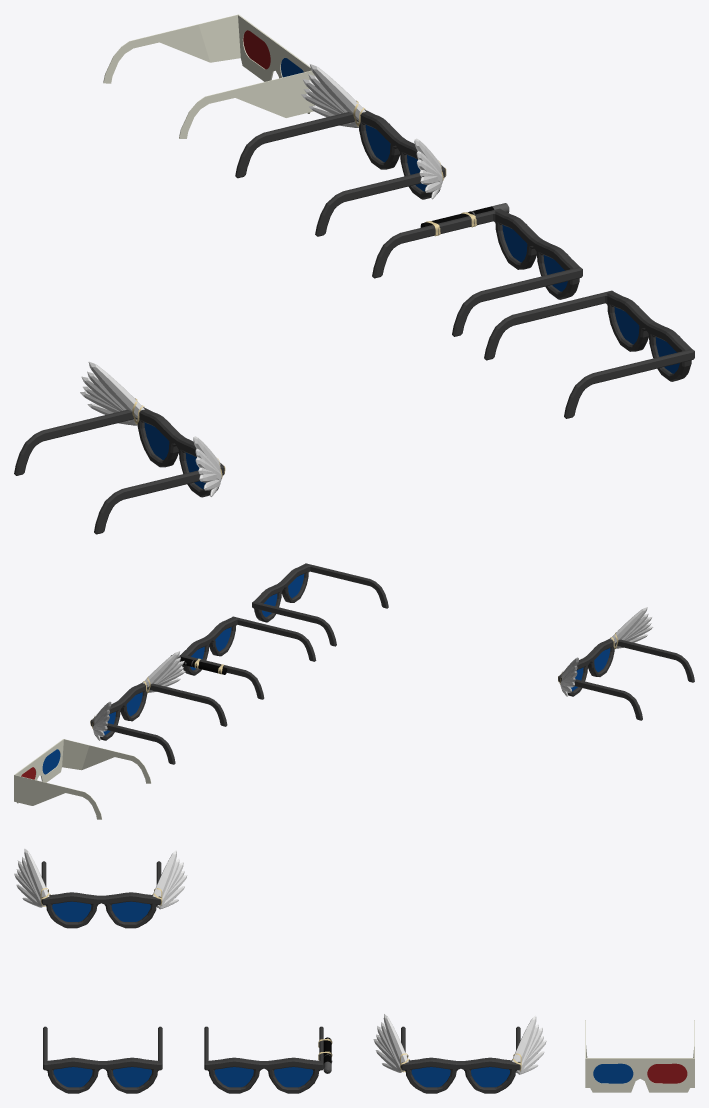
Rendered from bril3D.fbx.
3 renders of one model, top to bottom at view 1: azimuth 30°, elevation 25°; view 2: azimuth 150°, elevation 25°; view 3: azimuth 270°, elevation 25°, orthographic. The views are drawn at different scales.
Parts seen in each view (by area): view 1: 3DBril, brilWings.001, brilWings, brilLazer, bril; view 2: 3DBril, brilWings, brilWings.001, brilLazer, bril; view 3: brilWings.001, brilWings, brilLazer, 3DBril, bril.
Boxes of the visible parts, <box> form: 3DBril: <box>103,14,314,138</box>; brilWings.001: <box>14,361,225,534</box>; brilWings: <box>235,64,446,236</box>; brilLazer: <box>372,203,582,336</box>; bril: <box>484,290,694,418</box>; 3DBril: <box>14,739,151,819</box>; brilWings: <box>90,651,227,764</box>; brilWings.001: <box>558,607,694,720</box>; brilLazer: <box>171,616,316,699</box>; bril: <box>252,563,388,646</box>; brilWings.001: <box>14,848,187,928</box>; brilWings: <box>373,1014,546,1093</box>; brilLazer: <box>204,1026,332,1093</box>; 3DBril: <box>585,1020,694,1092</box>; bril: <box>43,1026,162,1093</box>.
Bounding box in the file's own units: 12811 × 1809 × 17179.
